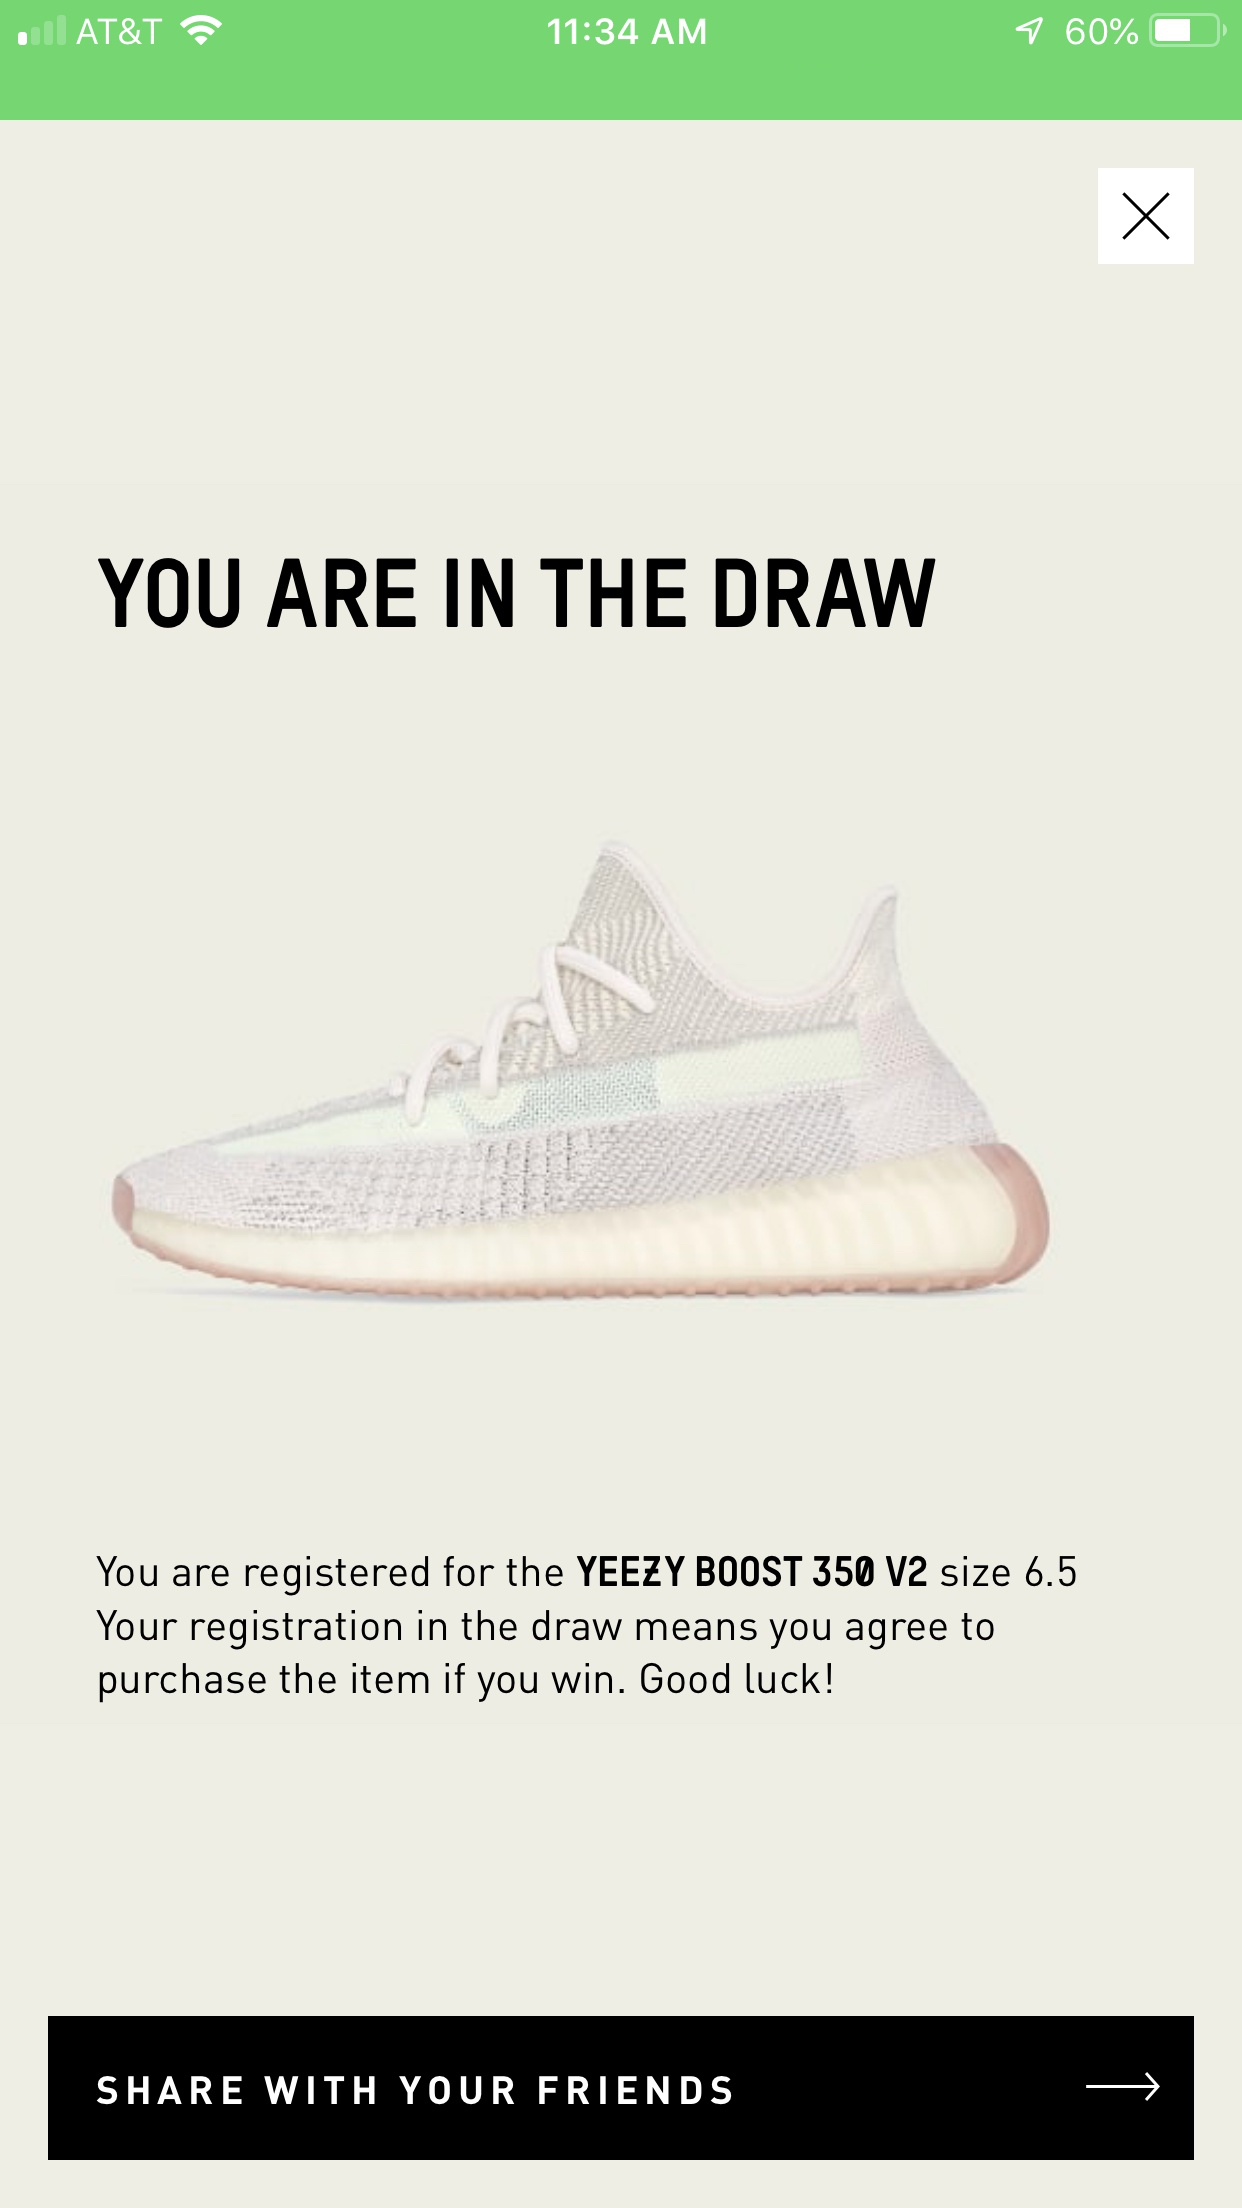Icon: (1096, 168, 1195, 265), (1086, 2072, 1162, 2100)
Image: (111, 840, 1052, 1306)
Text: (96, 1556, 1077, 1705), (99, 557, 937, 629)
TextButton: (49, 2015, 1193, 2161)
UpperTaskBar: (2, 2, 1242, 49)
